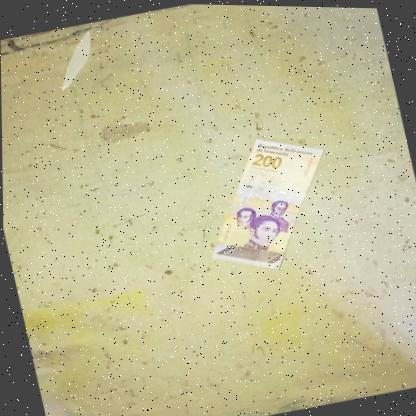two_hundred-front-vef: (185, 122, 347, 283)
